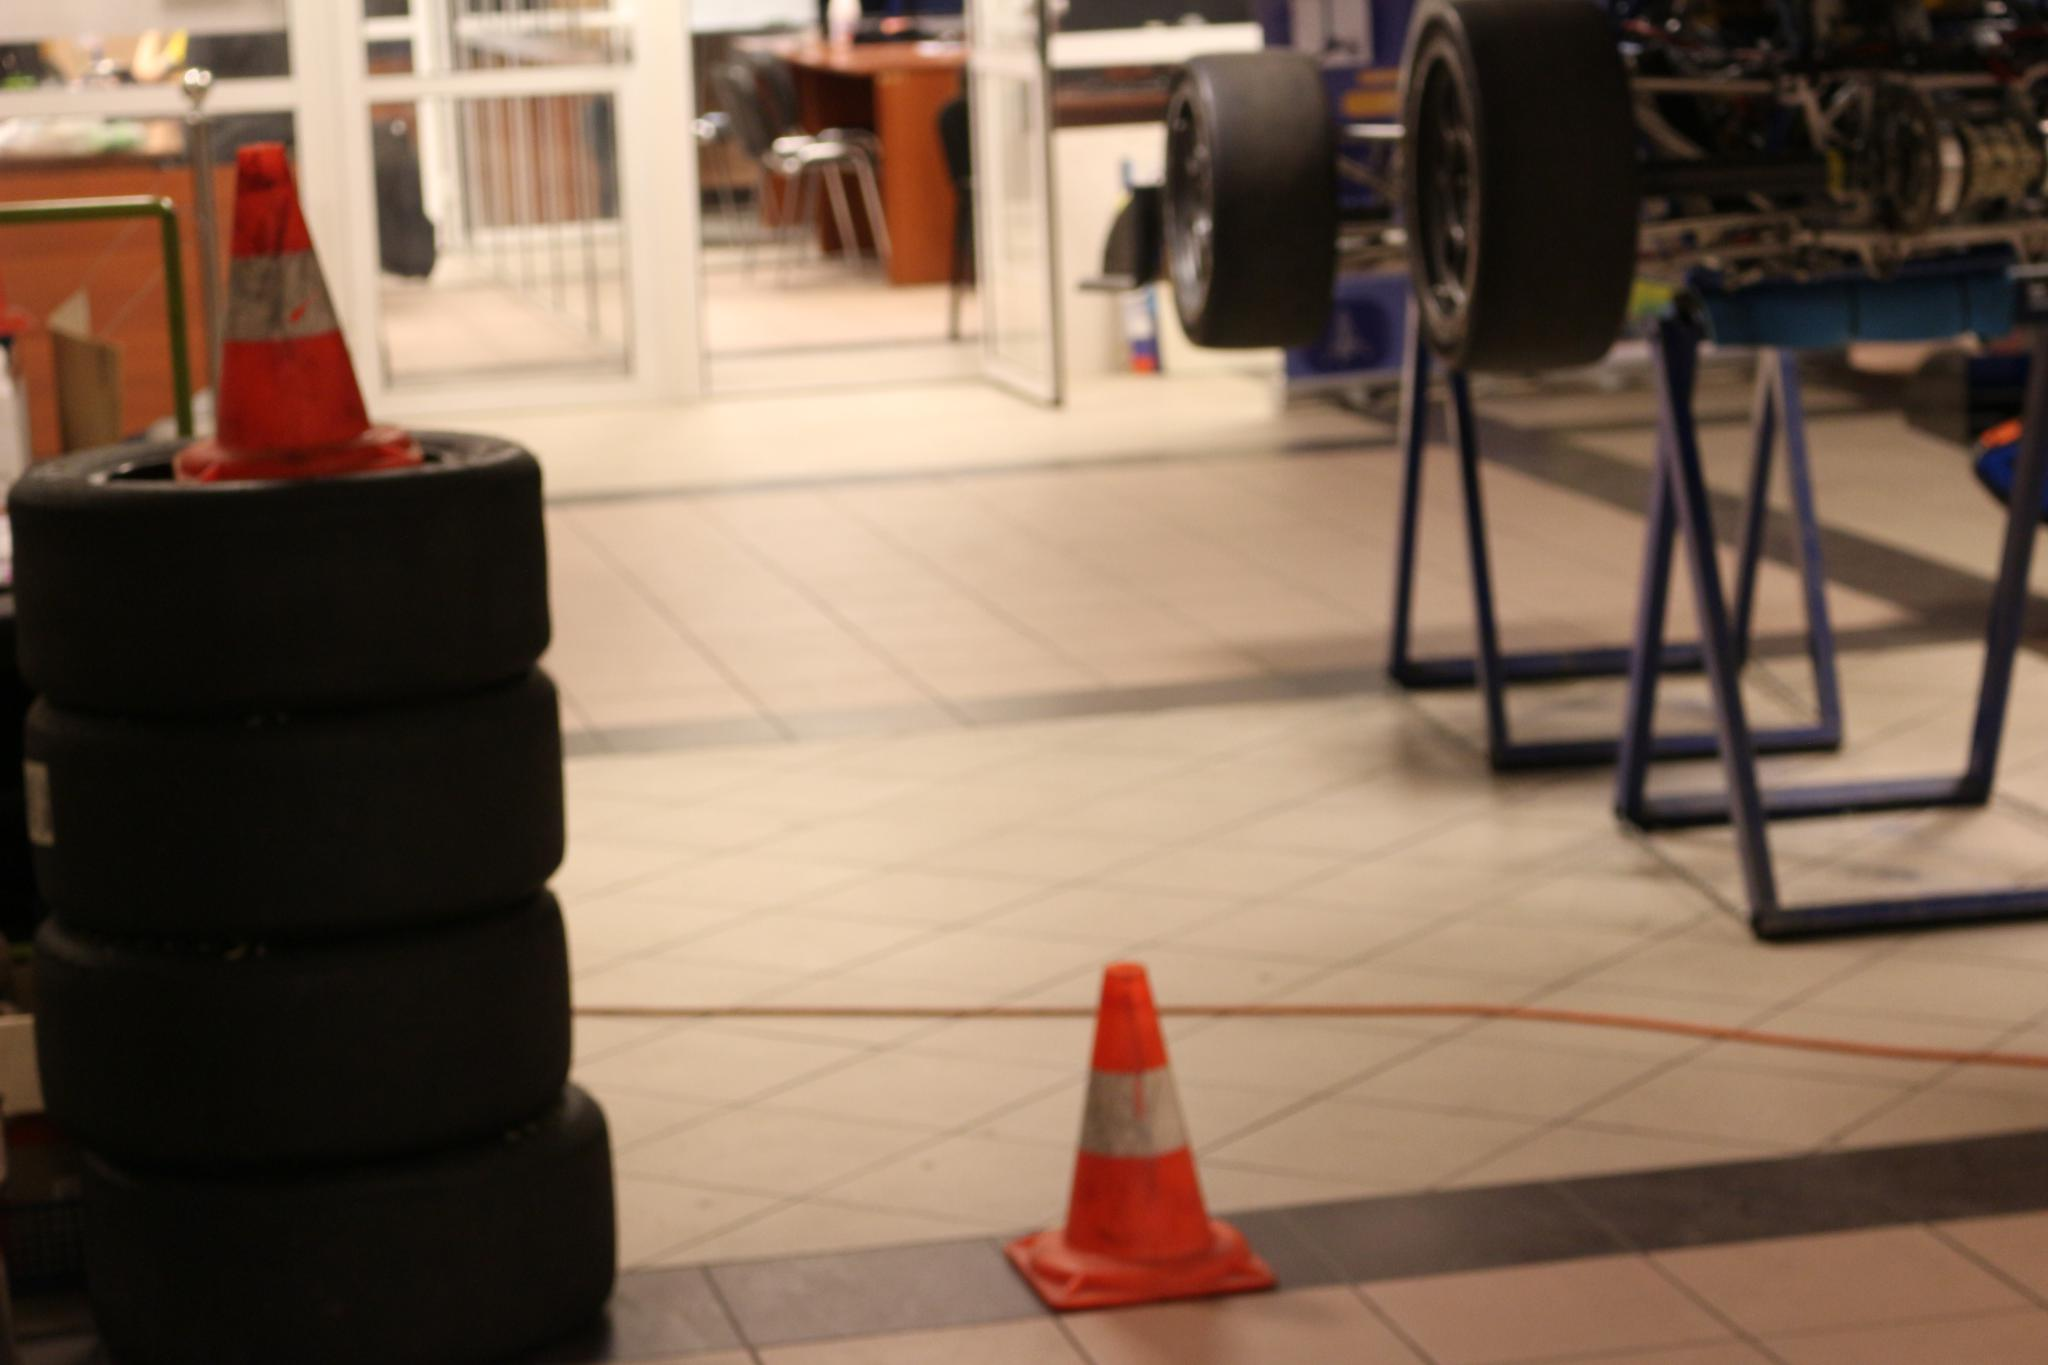Orange_Cone: (991, 954, 1276, 1315), (155, 134, 429, 486)
